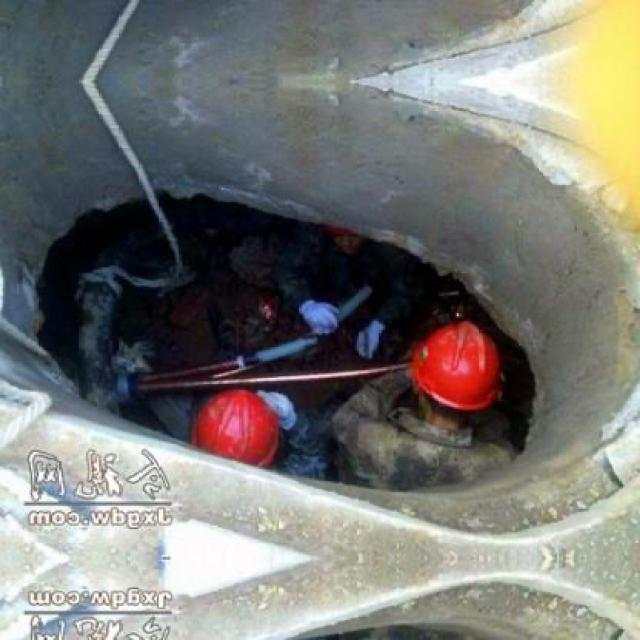con casco: (406, 292, 528, 437), (166, 365, 307, 486)
